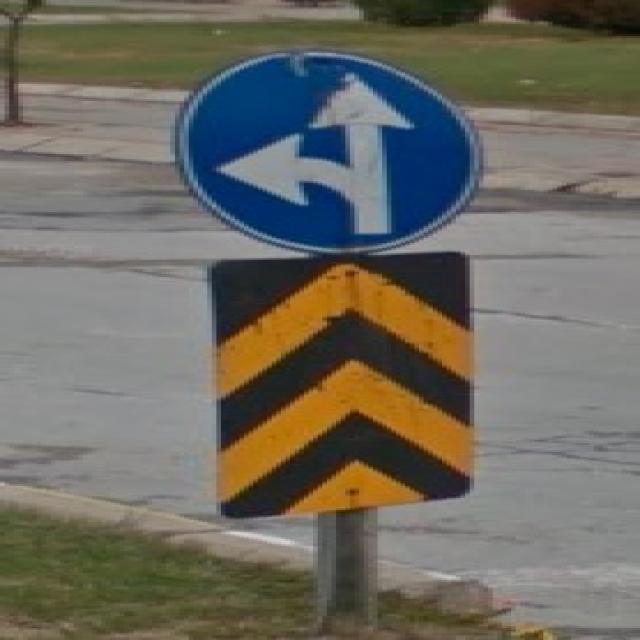Straight or Left: (178, 53, 482, 255)
